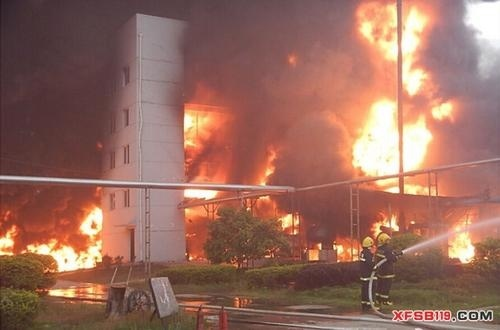fire: (351, 1, 447, 196), (0, 198, 107, 271), (250, 146, 294, 229), (448, 215, 478, 264), (182, 106, 211, 149), (372, 210, 402, 237), (334, 234, 362, 260), (183, 184, 223, 200)
